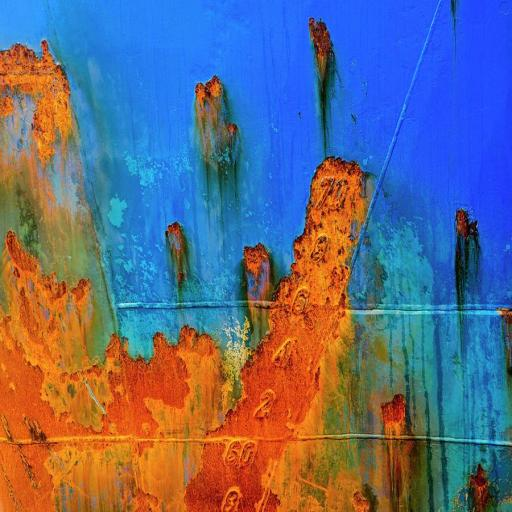segmentation: (184, 157, 364, 511), (0, 40, 117, 375), (41, 335, 222, 511), (0, 344, 88, 438), (121, 335, 189, 434), (176, 326, 222, 434), (308, 17, 341, 155), (194, 75, 235, 169), (242, 243, 274, 343), (454, 208, 481, 307), (165, 222, 186, 293), (469, 464, 493, 511), (381, 393, 405, 435), (497, 308, 511, 374), (352, 491, 370, 511)
